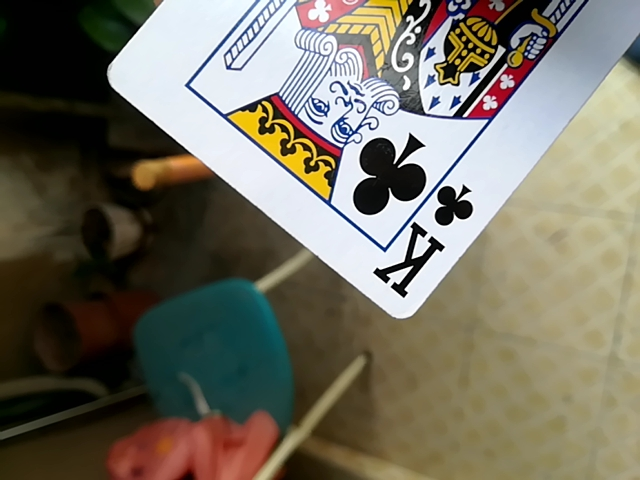mh k: (90, 1, 636, 325)
